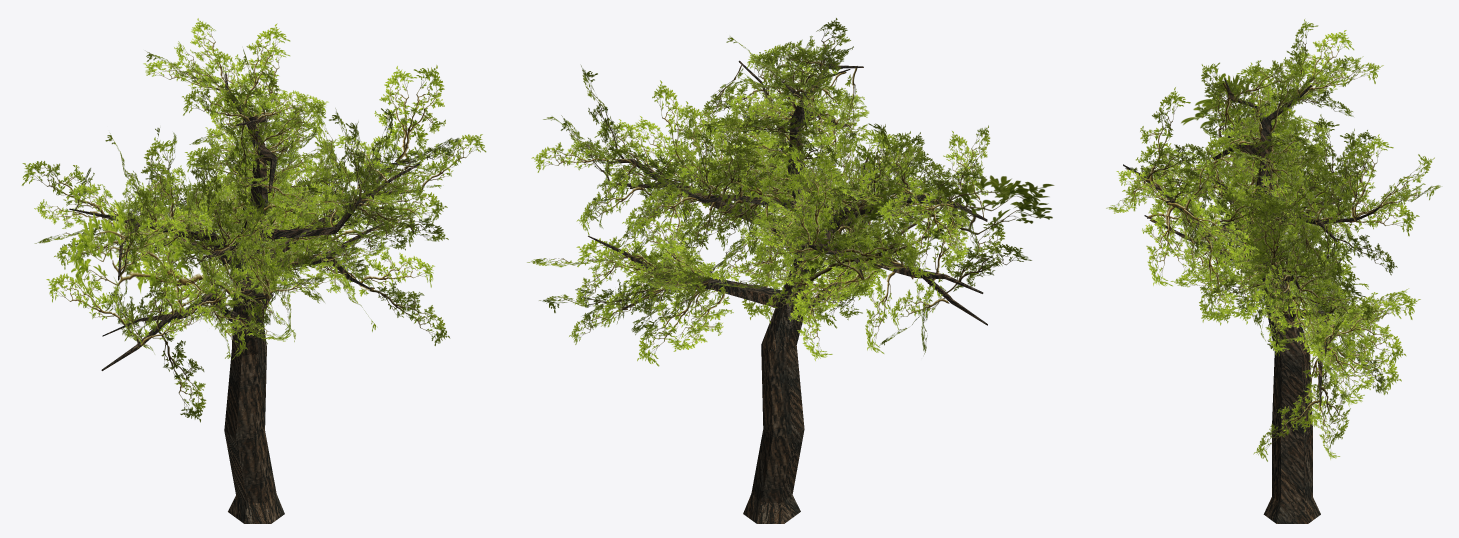
File: tree.glb
The picture shows the model from 3 angles, left to right: view 1: azimuth 30°, elevation 25°; view 2: azimuth 150°, elevation 25°; view 3: azimuth 270°, elevation 25°; orthographic projection. The views are drawn at different scales.
Visible parts, largest first — view 1: tree-branch-isolated-on-transparent-background-png (×57), Cube; view 2: tree-branch-isolated-on-transparent-background-png (×65), Cube; view 3: tree-branch-isolated-on-transparent-background-png (×86), Cube.
Part boxes in pixels (left/top/right/bottom): tree-branch-isolated-on-transparent-background-png (×57): left=21, top=18, right=486, bottom=422; Cube: left=69, top=73, right=419, bottom=523; tree-branch-isolated-on-transparent-background-png (×65): left=531, top=18, right=1054, bottom=366; Cube: left=588, top=60, right=987, bottom=523; tree-branch-isolated-on-transparent-background-png (×86): left=1106, top=19, right=1441, bottom=461; Cube: left=1123, top=78, right=1380, bottom=523.
Bounding box in the file's own units: 7.89 × 7.67 × 5.17.
Materials: 2 (2 with a texture image).
